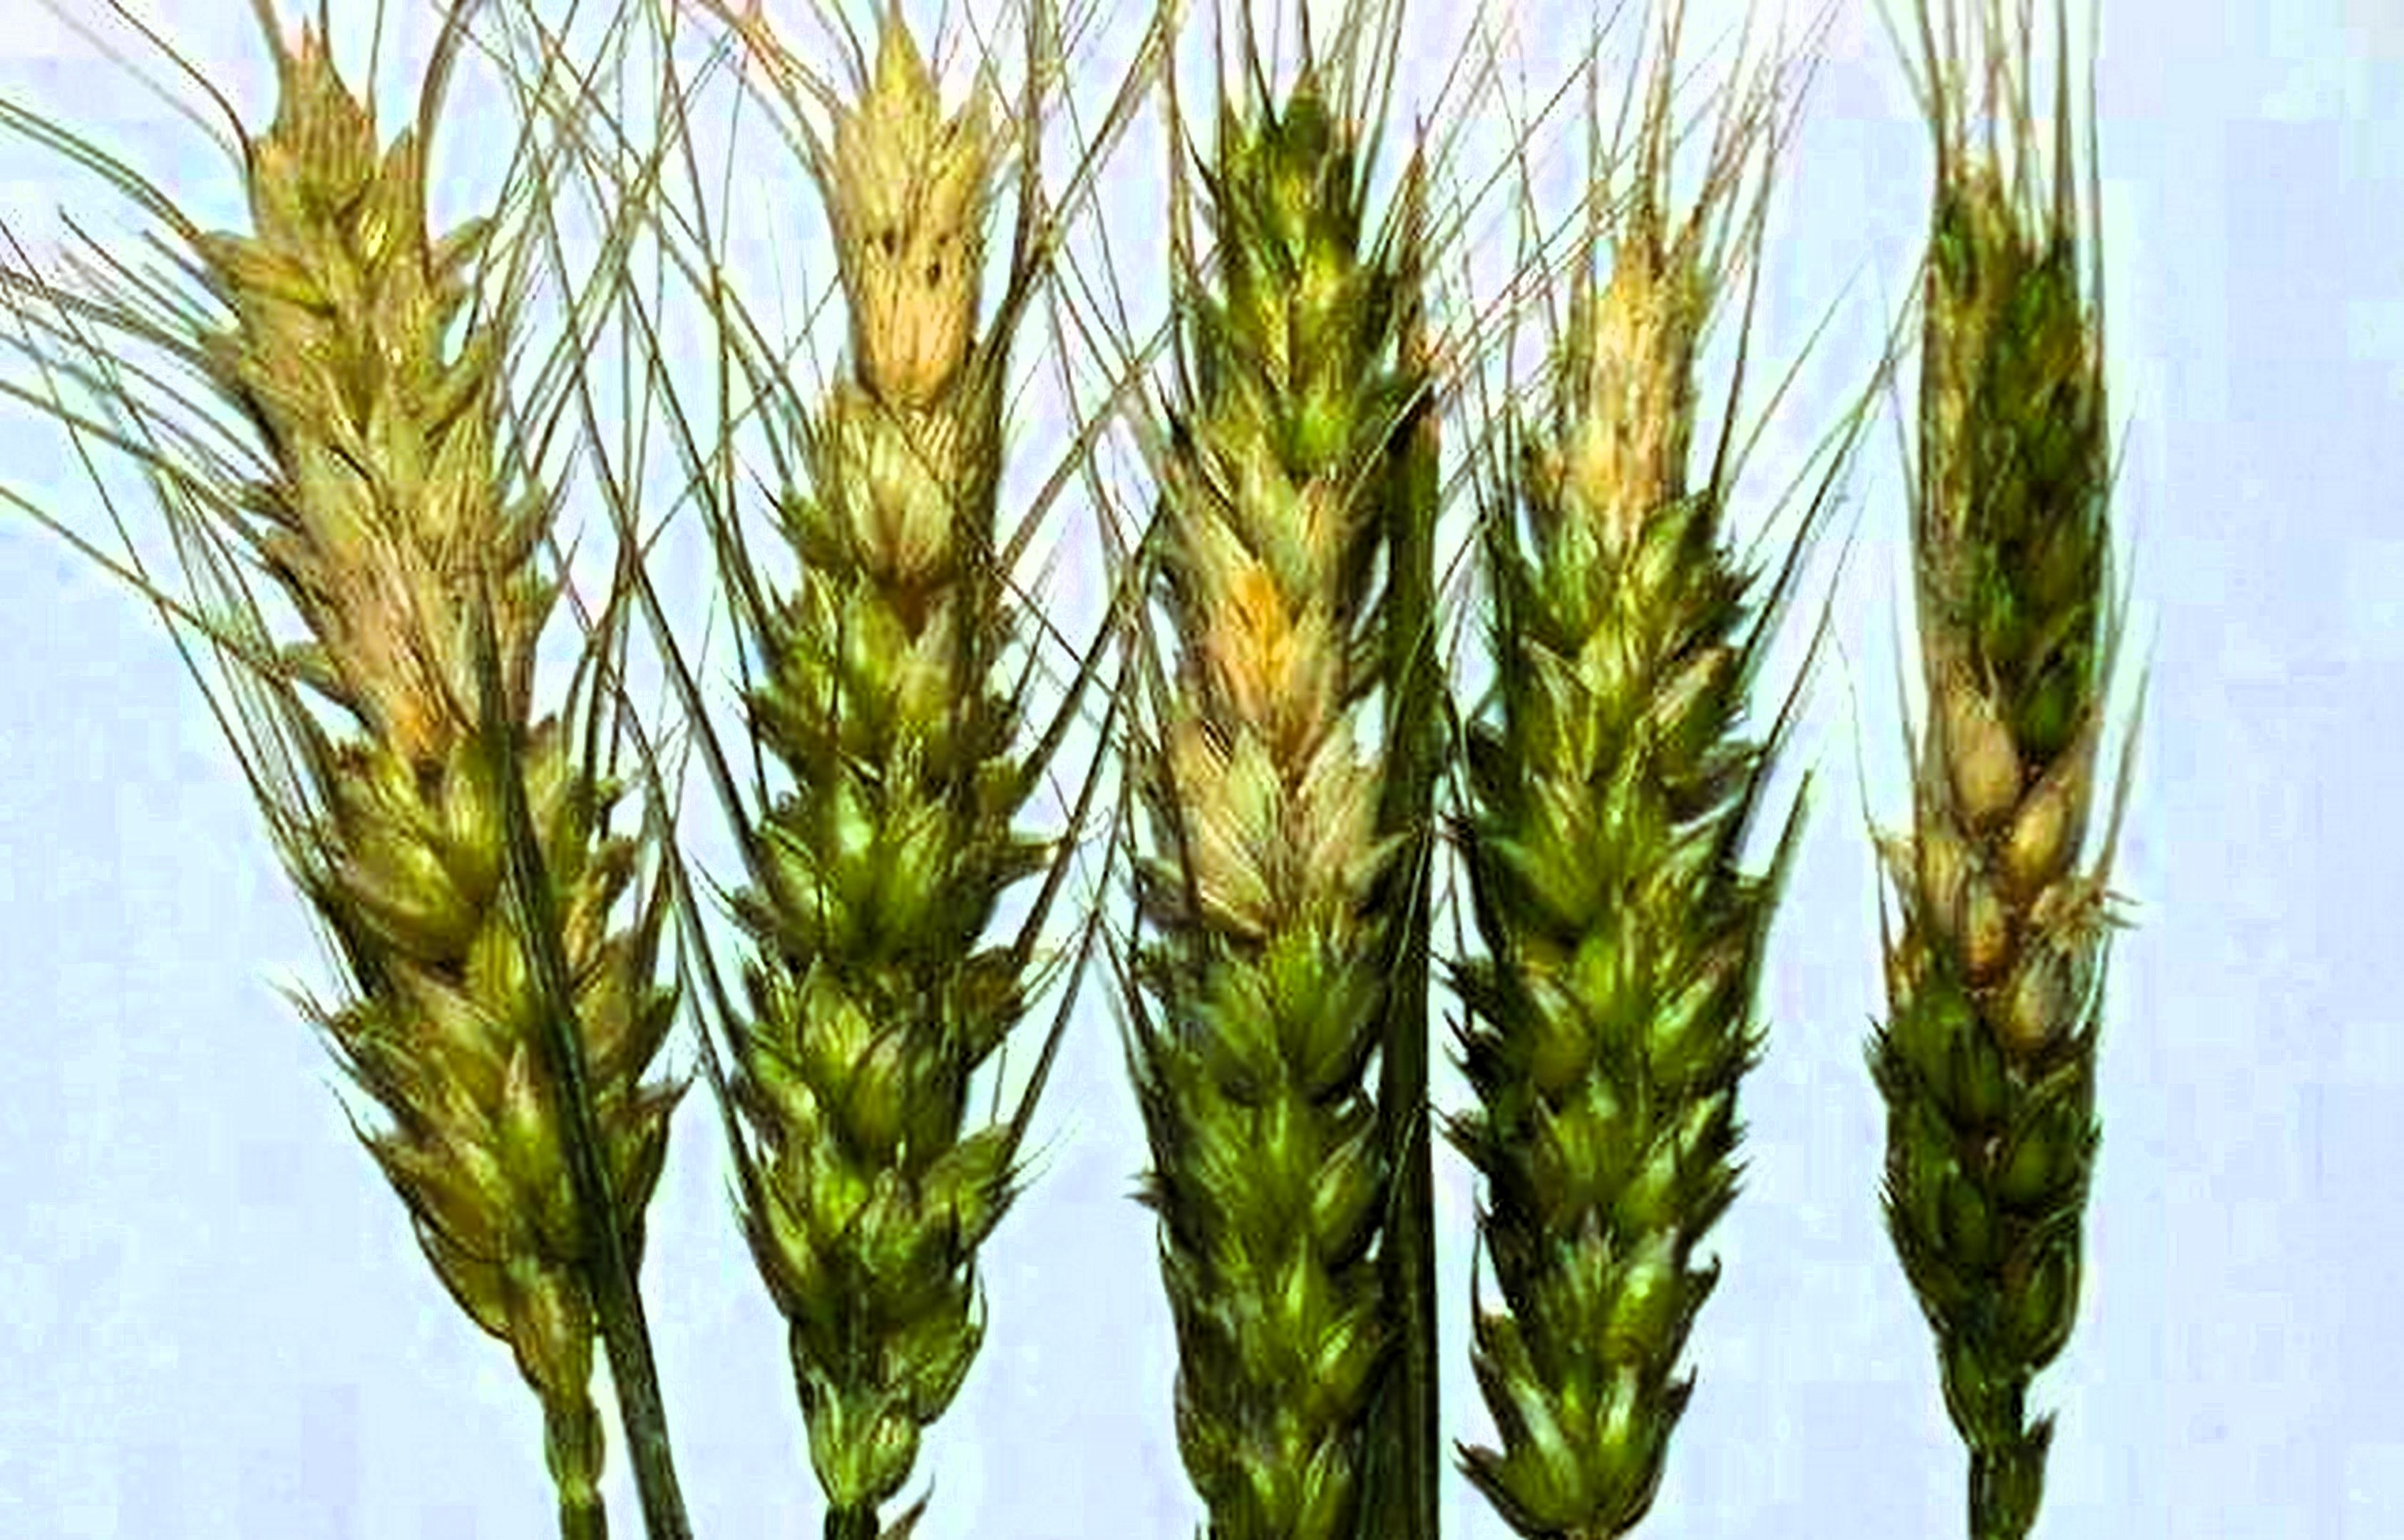Wheat scab: (158, 65, 722, 1316), (1114, 79, 1458, 1522)
